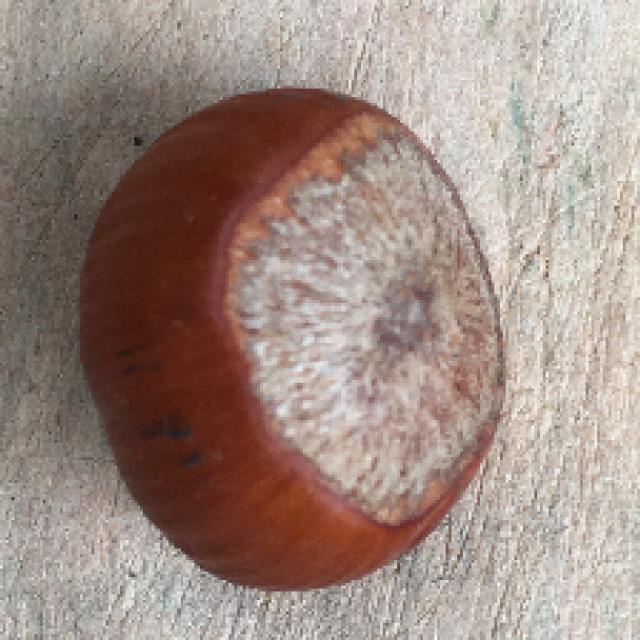qualityHazelnut: (68, 80, 509, 590)
